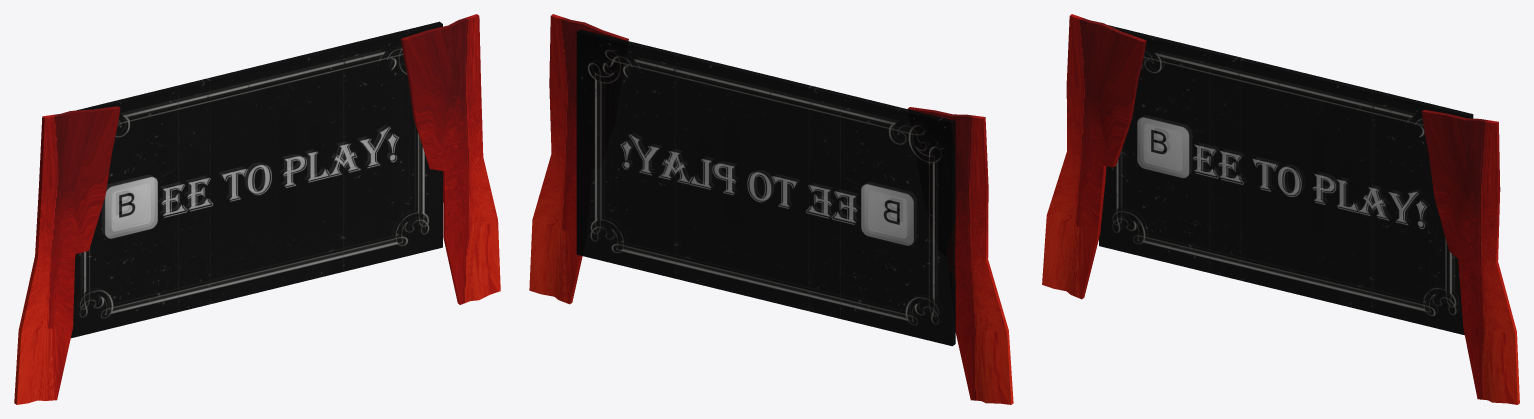
File: titlecard.FBX
The picture shows the model from 3 angles, left to right: view 1: azimuth 30°, elevation 25°; view 2: azimuth 150°, elevation 25°; view 3: azimuth 330°, elevation 25°; orthographic projection.
Visible parts, largest first — view 1: Plane001, Plane003, Plane002; view 2: Plane001, Plane003, Plane002; view 3: Plane001, Plane002, Plane003.
Part boxes in pixels (x1=…): Plane001: x1=71, y1=21, x2=442, y2=338; Plane003: x1=14, y1=106, x2=120, y2=404; Plane002: x1=401, y1=14, x2=500, y2=304; Plane001: x1=576, y1=29, x2=955, y2=346; Plane003: x1=907, y1=107, x2=1013, y2=404; Plane002: x1=529, y1=14, x2=628, y2=304; Plane001: x1=1099, y1=25, x2=1473, y2=335; Plane002: x1=1421, y1=110, x2=1519, y2=404; Plane003: x1=1042, y1=14, x2=1146, y2=299.
Bounding box in the file's own units: 86.02 × 48.93 × 3.34.
Materials: 2 (2 with a texture image).
